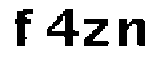4: (44, 4, 81, 48)
f: (10, 4, 38, 52)
n: (114, 17, 148, 49)
z: (81, 14, 112, 50)
